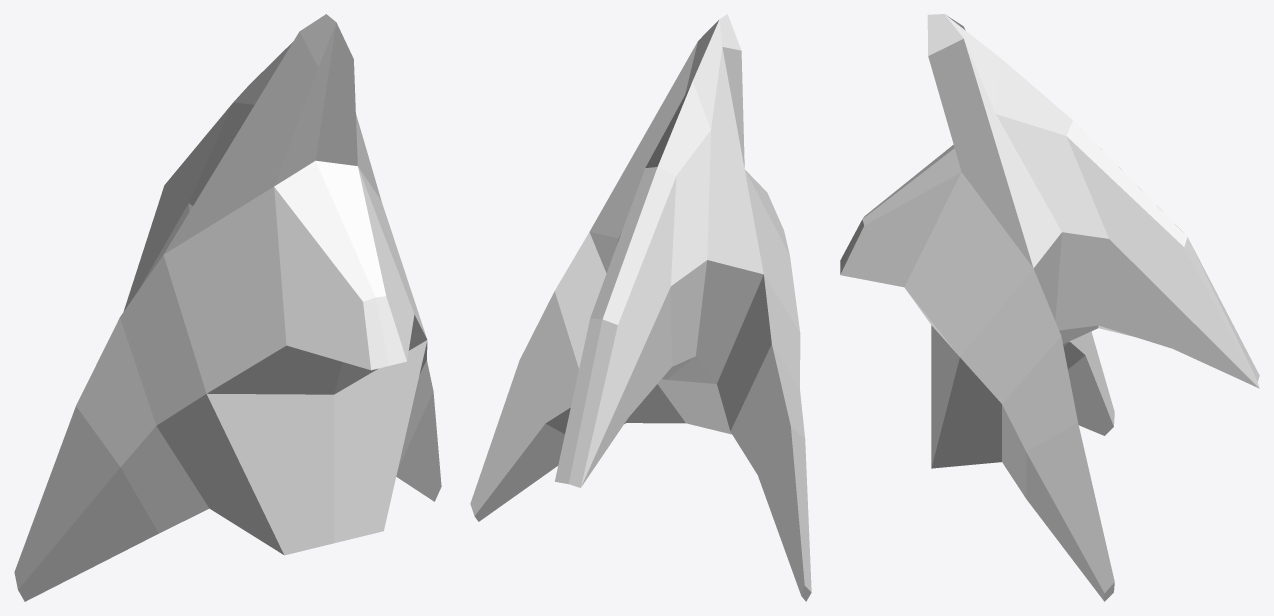
The model's file is head_15.fbx.
The picture shows the model from 3 angles, left to right: view 1: azimuth 30°, elevation 25°; view 2: azimuth 150°, elevation 25°; view 3: azimuth 270°, elevation 25°; orthographic projection. The views are drawn at different scales.
Parts seen in each view (by area): view 1: Cube.138; view 2: Cube.138; view 3: Cube.138.
Boxes of the visible parts, left/top/right/bottom form: Cube.138: left=14, top=14, right=441, bottom=601; Cube.138: left=470, top=14, right=811, bottom=601; Cube.138: left=840, top=14, right=1259, bottom=601.
Bounding box in the file's own units: 31.65 × 43.45 × 32.71.
